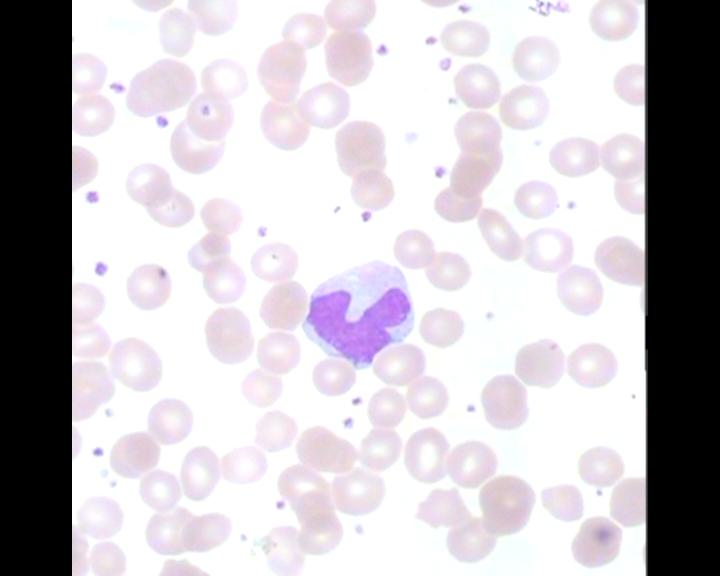mono: (297, 255, 421, 370)
